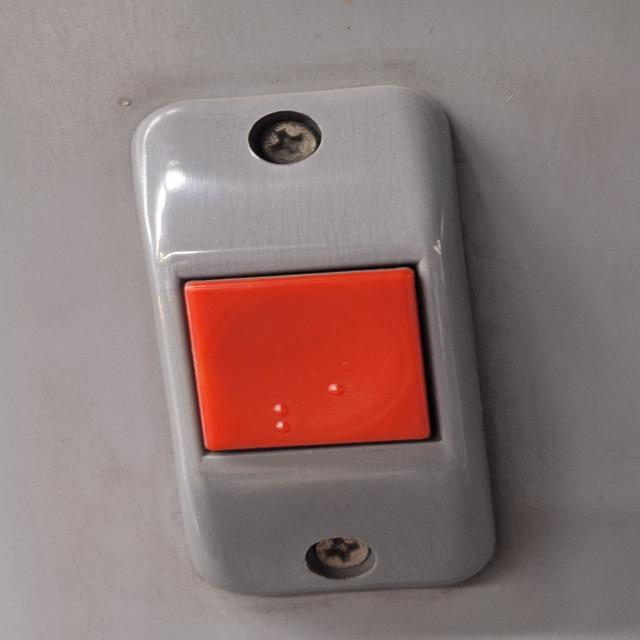Phillips: (240, 114, 336, 168), (302, 536, 389, 587)
